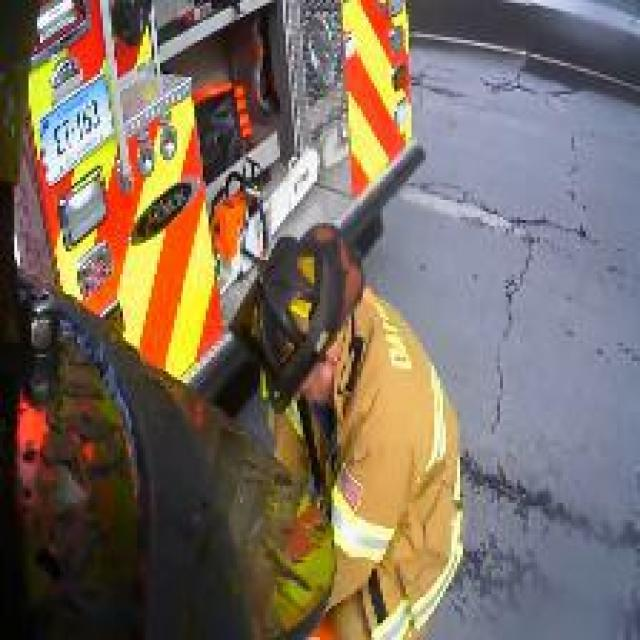other: (42, 142, 218, 339), (337, 1, 415, 145)
